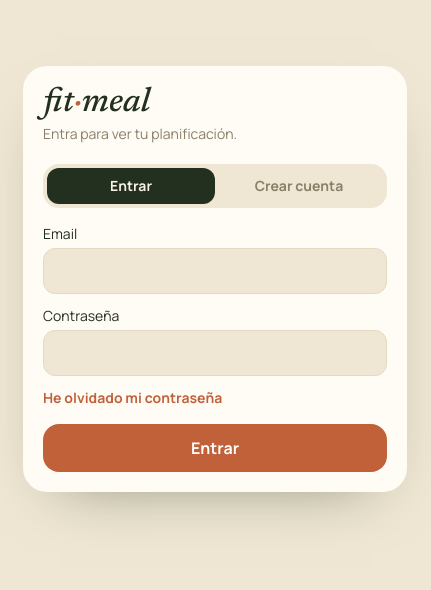
AuthPage › muestra un error de acceso seguro sin nombres ni detalles del proveedor
The width and height of the screenshot is (431, 590).
Type "persona@example.com" into the field labelled "Email" at (215, 271), box [43,248,387,294]
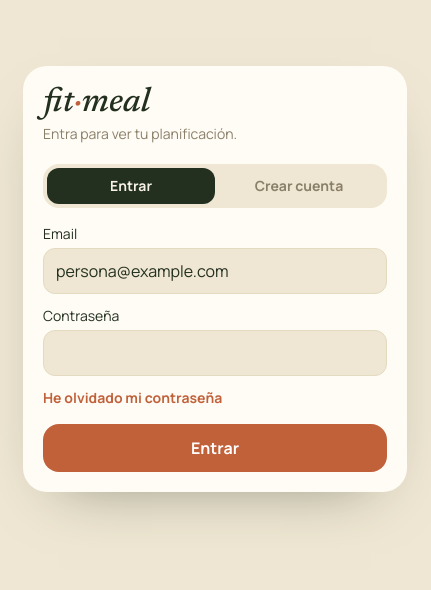
Type "secreto123" into the password field labelled "Contraseña" at (215, 353), box [43,330,387,376]
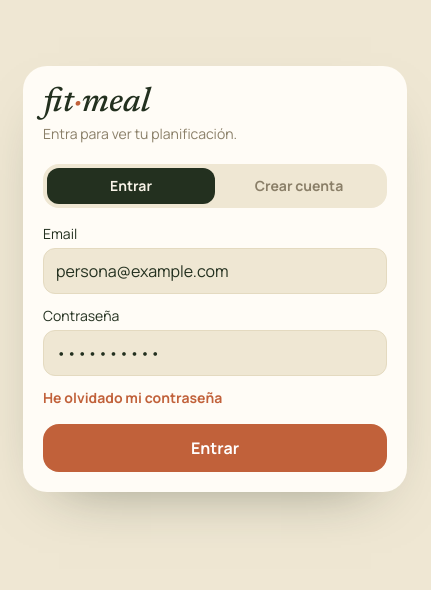
Click the button "Entrar" below "Email" at (215, 448), box [43,424,387,472]
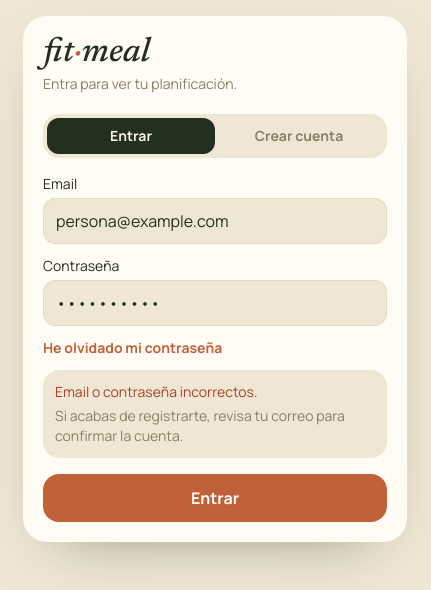
Check: the text "Email o contraseña incorrectos." is shown, box [55,382,258,401]
Check: the text "Si acabas de registrarte, revisa tu correo para confirmar la cuenta." is shown, box [55,406,375,446]
